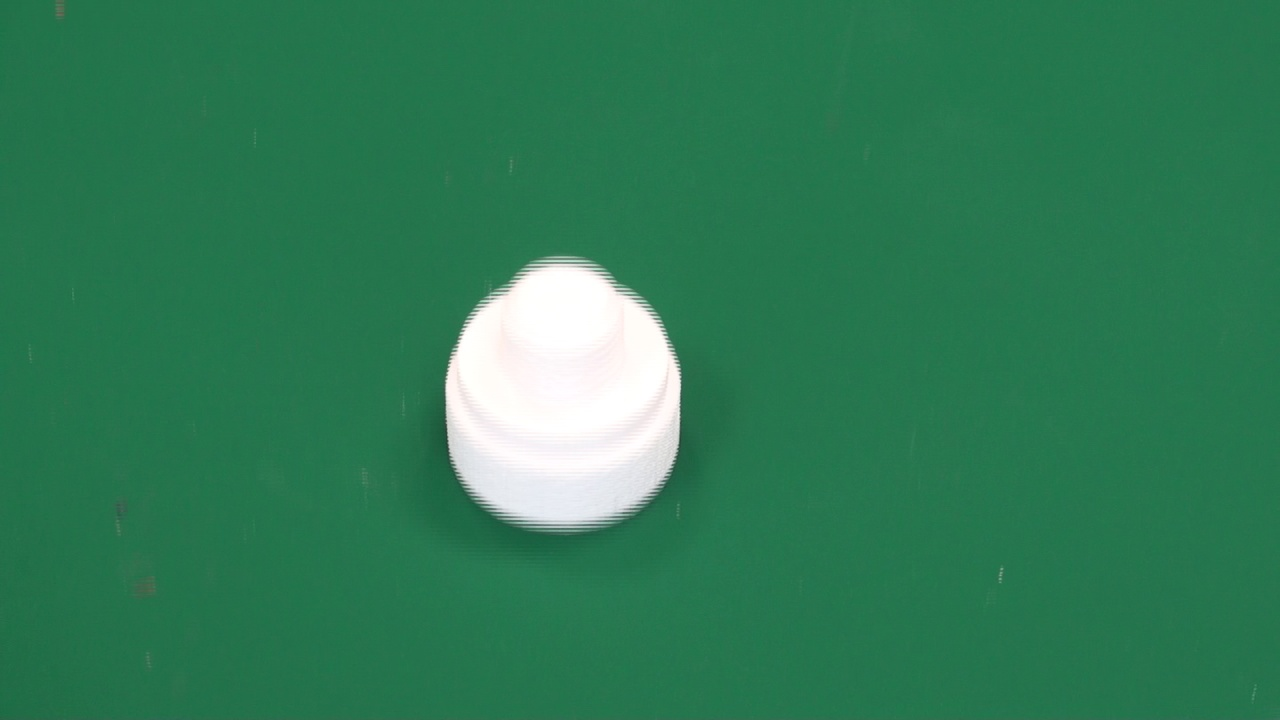breather_plug: (440, 254, 680, 536)
